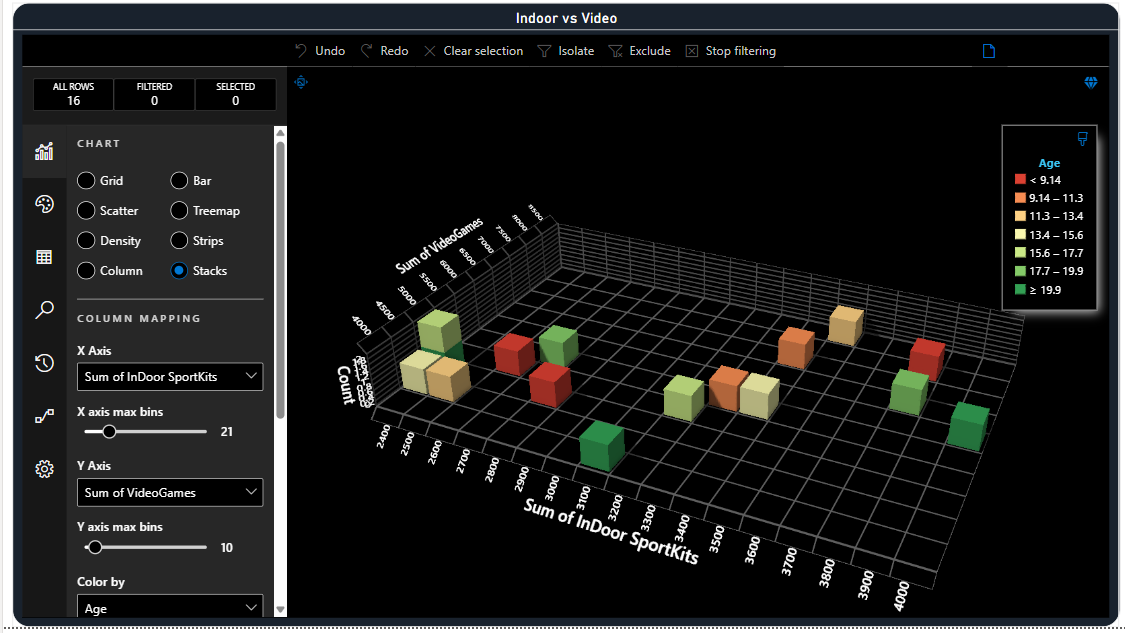

Layout of this report page (visuals, bound fields, positions):
{"tool":"powerbi","page":{"name":"Page 3","canvas":[1280,720],"ordinal":1},"visuals":[{"type":"SandDance201929976D117A654D0BAB8E96507442D80B","title":"Indoor vs Video","fields":{"values":["Sum(Student Survey.InDoor SportKits)","Sum(Student Survey.VideoGames)","Student Survey.Age"]},"box":[10.4,11.9,1255.4,708],"z":0}]}

Visuals, with their boxes on the page's 1280x720 design canvas (x1, y1, x2, y2). These are canvas units, not pixel positions in the 1125x633 screenshot, which may show the page scaled, cropped or inside an application window:
"Indoor vs Video" SandDance201929976D117A654D0BAB8E96507442D80B: left=10, top=12, right=1266, bottom=720
